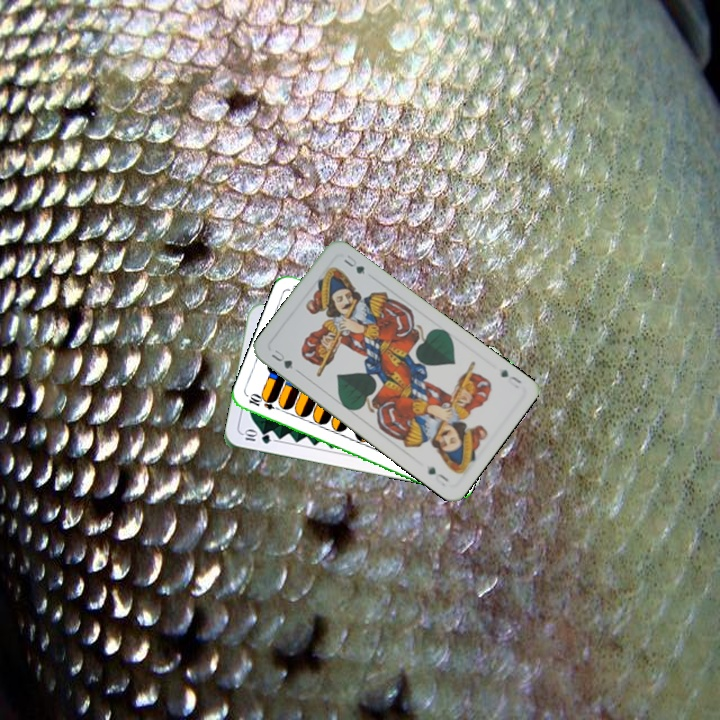E10: (245, 391, 285, 414)
G10: (239, 427, 273, 446)
GU: (267, 345, 297, 372), (497, 365, 524, 386)
